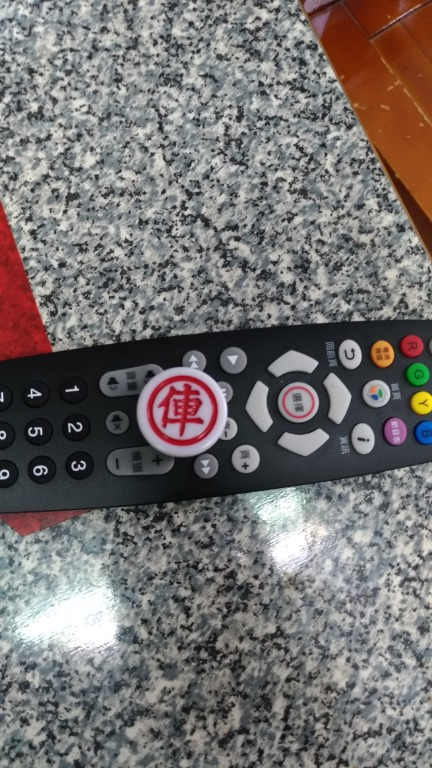r-rook: (114, 358, 263, 473)
